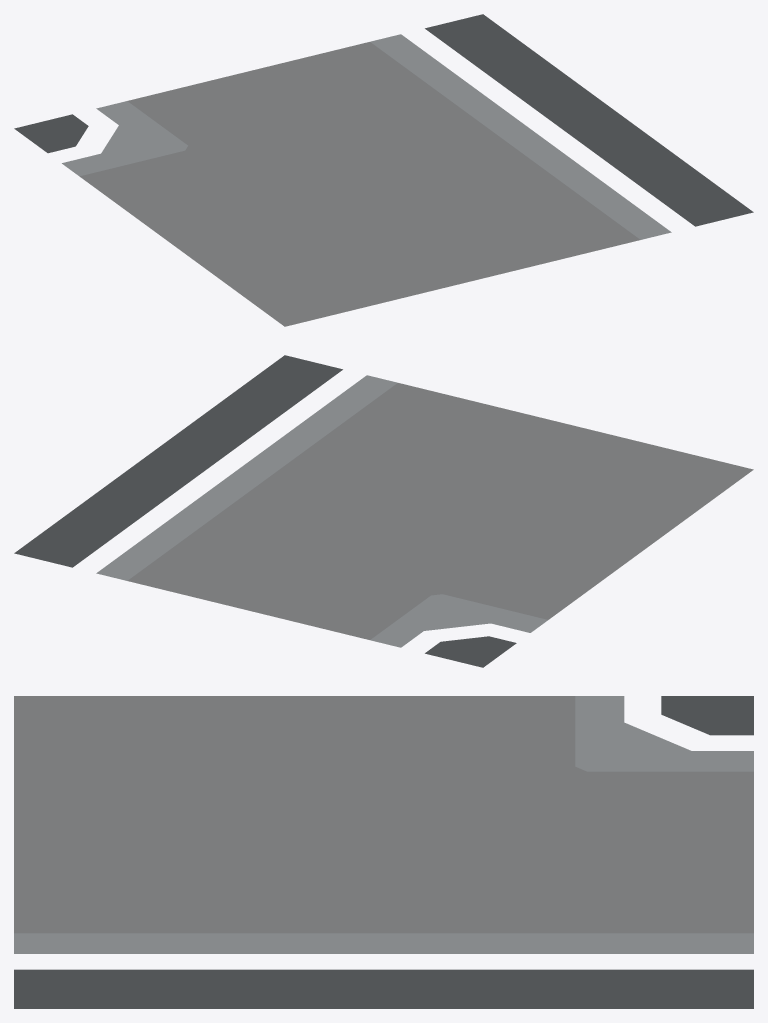
Rendered from Ceiling_type_B_052_011.glb.
3 renders of one model, top to bottom at view 1: azimuth 30°, elevation 25°; view 2: azimuth 150°, elevation 25°; view 3: azimuth 270°, elevation 25°, orthographic. The views are drawn at different scales.
Parts seen in each view (by area): view 1: Ceiling_type_B_052.011; view 2: Ceiling_type_B_052.011; view 3: Ceiling_type_B_052.011.
Part boxes in pixels (x1,y1,x2,y2): Ceiling_type_B_052.011: (14,14,753,326); Ceiling_type_B_052.011: (14,355,753,667); Ceiling_type_B_052.011: (14,696,753,1008).
Size of the model in its own units: 4 by 0.035 by 4.
Materials: 2 (2 with a texture image).
